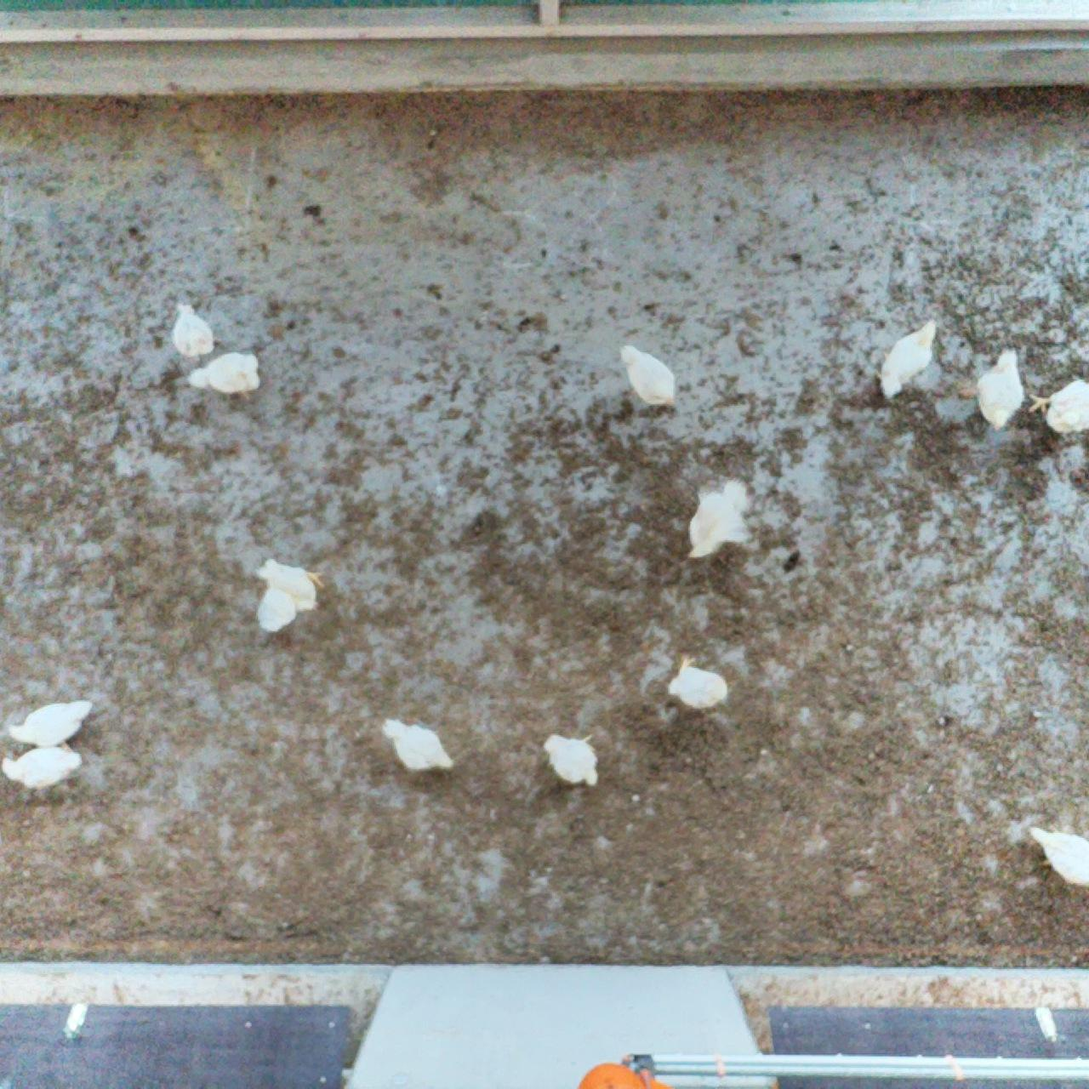chicken: (684, 472, 764, 567), (867, 315, 943, 410), (956, 344, 1029, 439), (253, 552, 331, 640), (378, 713, 463, 779), (611, 338, 683, 413), (1019, 821, 1089, 895), (4, 694, 97, 749), (661, 646, 735, 715), (184, 348, 268, 408), (0, 738, 85, 795), (1027, 369, 1089, 440), (540, 727, 605, 792), (169, 299, 221, 362)
